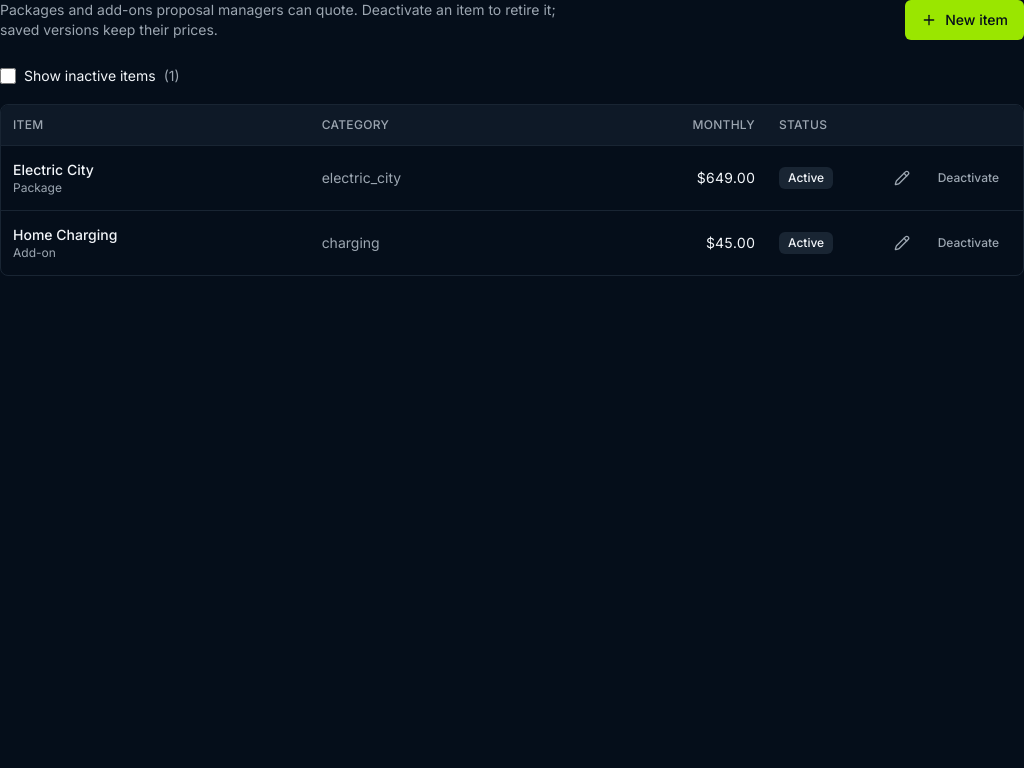
Test: CataloguePanel › deactivates an item after confirmation
Click the button named "Deactivate Electric City" at (968, 178), box x1=926 y1=162 x2=1011 y2=194
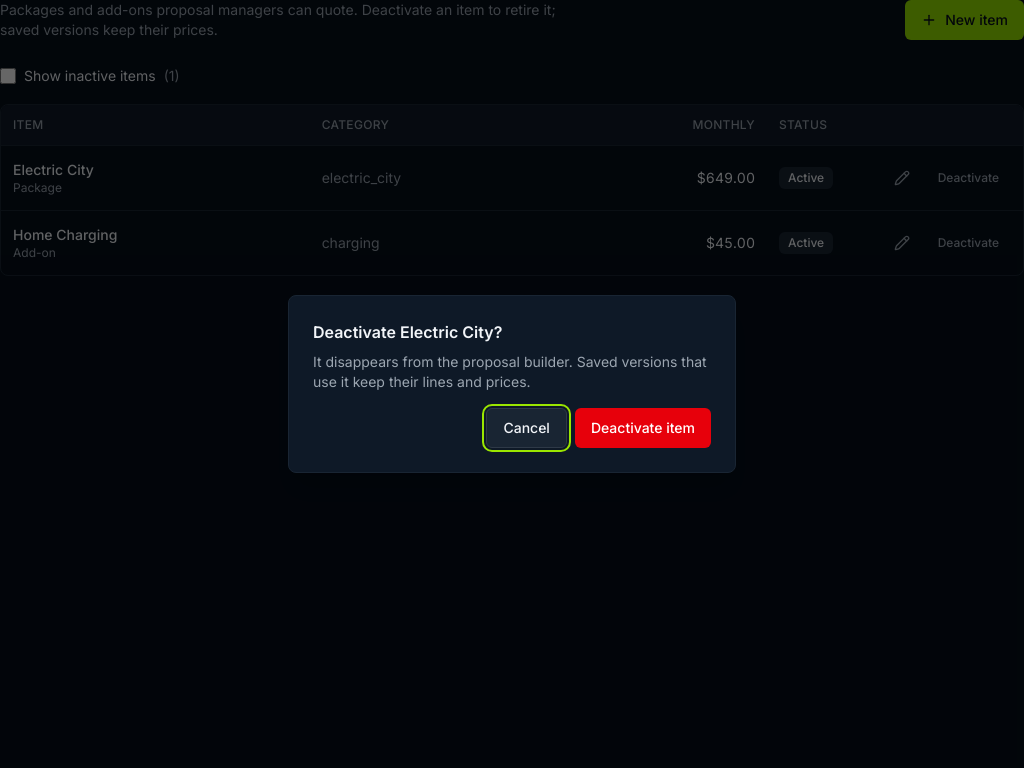
Click the button "Deactivate item" at (643, 428), box x1=575 y1=408 x2=711 y2=448
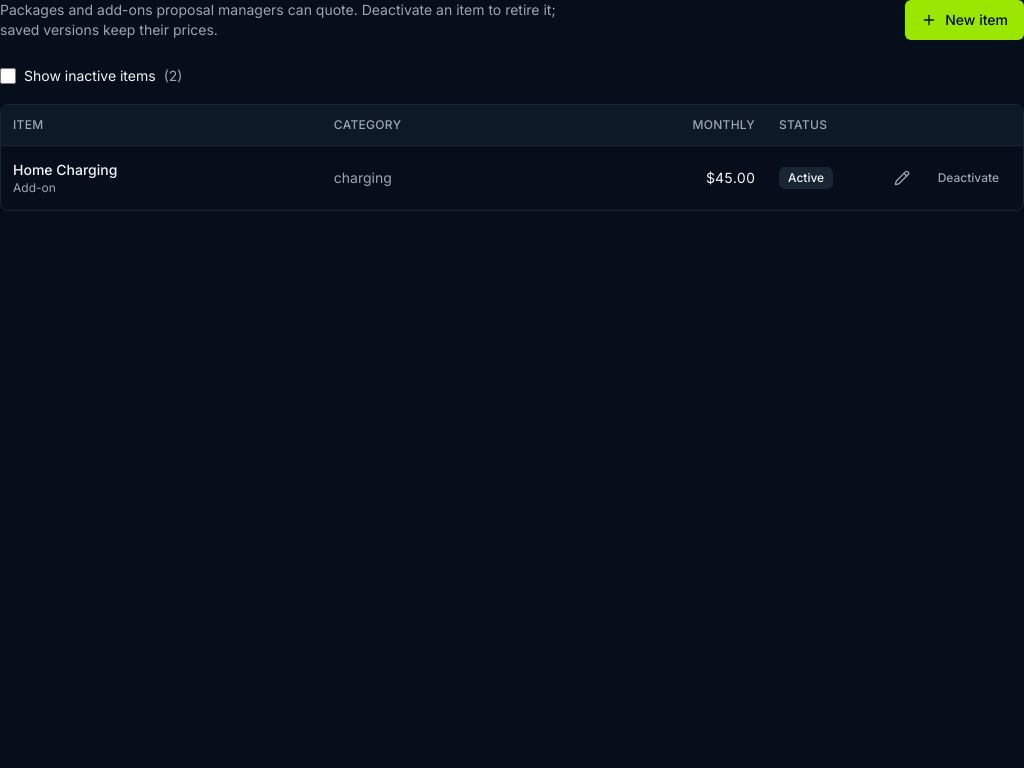
Expected: the text "Electric City" is gone
